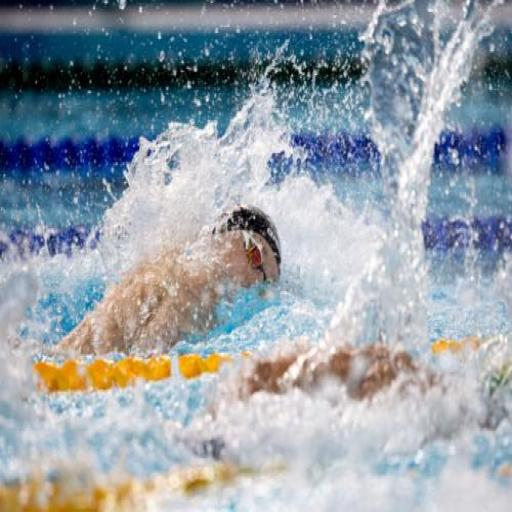swimming: (34, 201, 284, 362)
